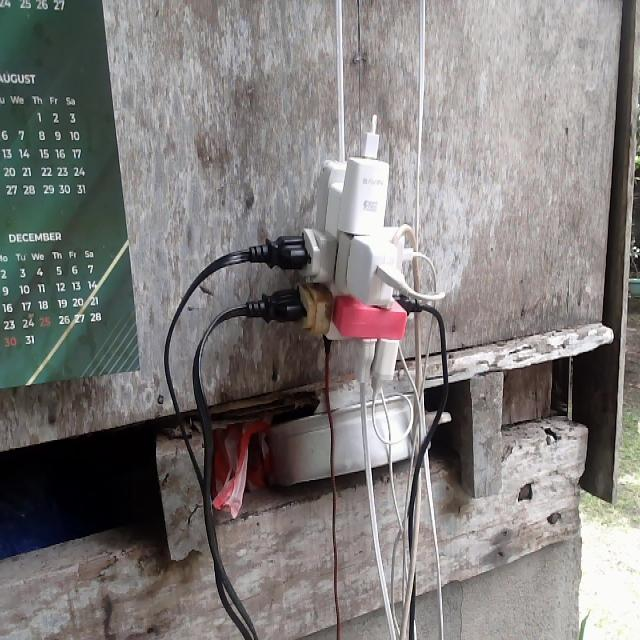-: (263, 128, 424, 397)
